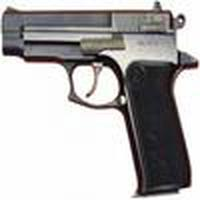gun: (1, 5, 200, 197)
